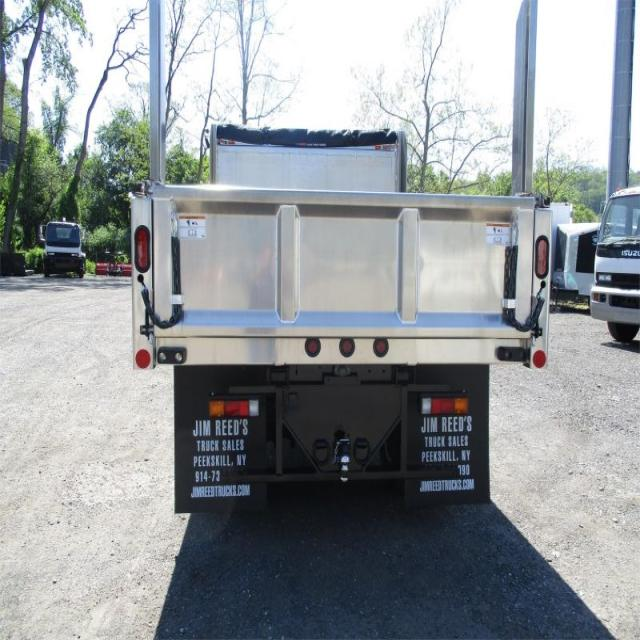truck: (128, 128, 550, 517)
